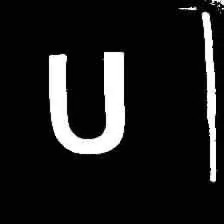LTR_U: (42, 42, 133, 160)
